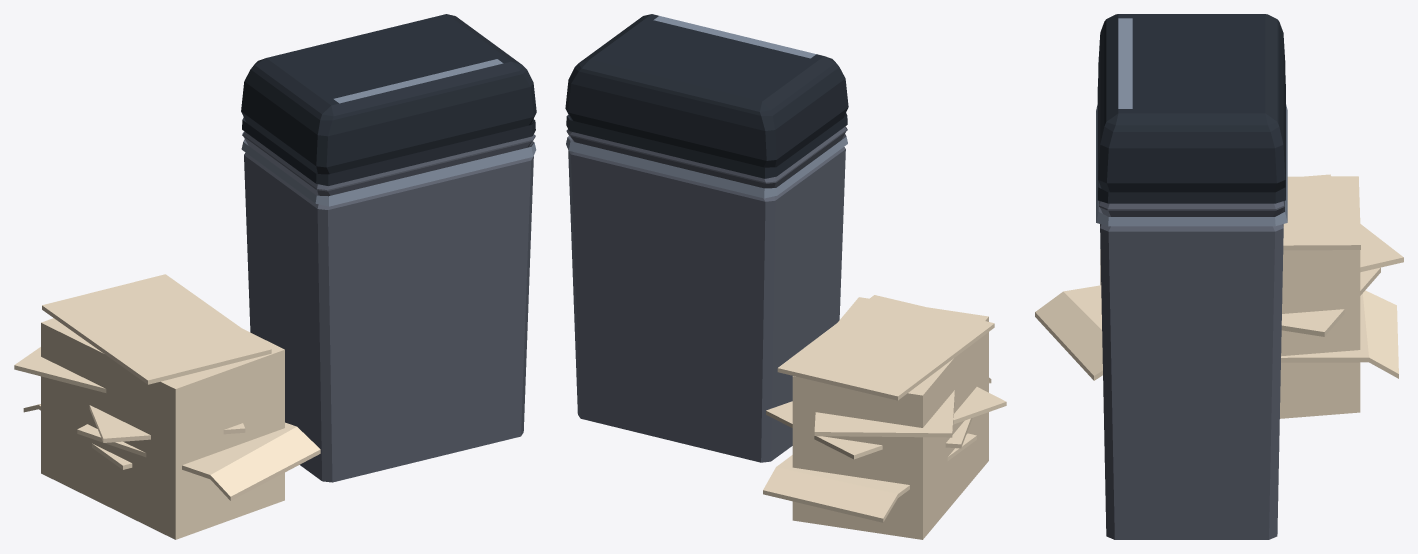
File: g_o_paperwork.fbx
3 views of the same model, side by side, from view 1: azimuth 30°, elevation 25°; view 2: azimuth 150°, elevation 25°; view 3: azimuth 270°, elevation 25° (orthographic). The views are drawn at different scales.
Parts seen in each view (by area): view 1: pCube207; view 2: pCube207; view 3: pCube207.
Boxes of the visible parts, x1,y1,x2,y2 form: pCube207: (14, 14, 536, 539); pCube207: (565, 14, 1006, 539); pCube207: (1035, 14, 1403, 539).
Size of the model in its own units: 65.2 by 56.87 by 43.24.
